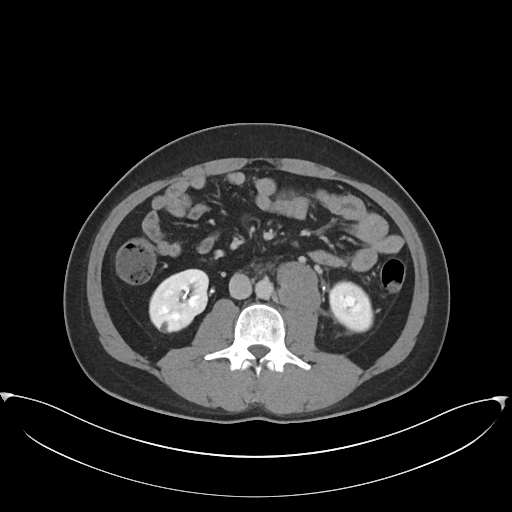Lesion: (272, 260, 326, 312), (156, 319, 170, 335)
